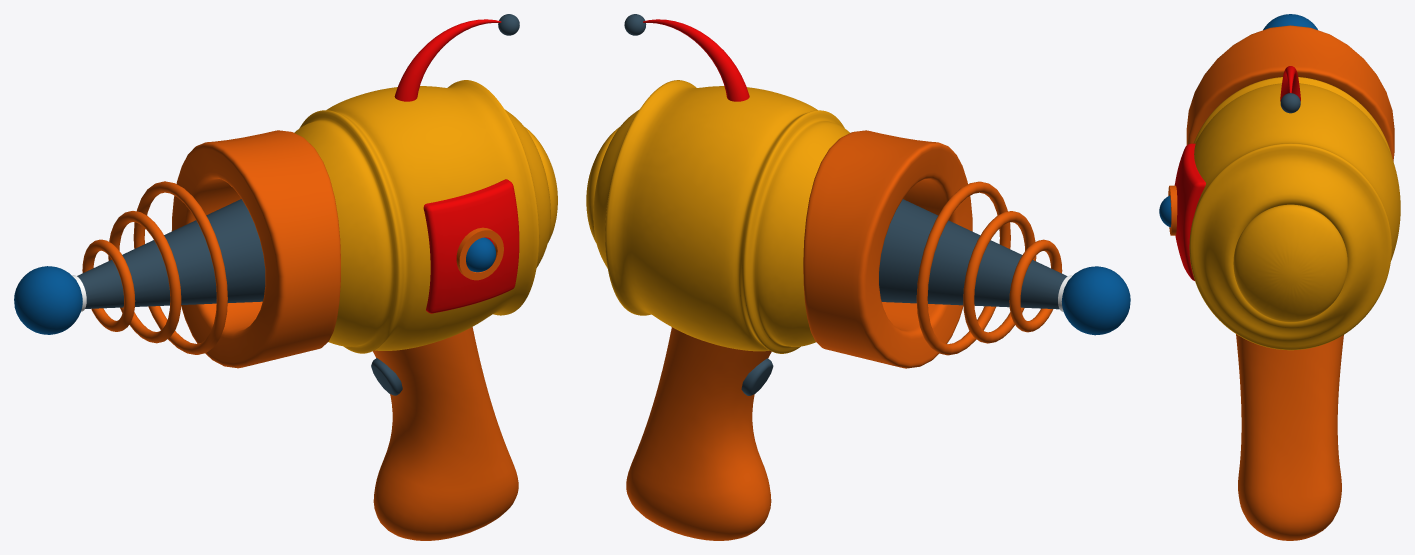
Rendered from space_gun.glb.
3 views of the same model, side by side, from view 1: azimuth 30°, elevation 25°; view 2: azimuth 150°, elevation 25°; view 3: azimuth 270°, elevation 25° (orthographic). The views are drawn at different scales.
Visible parts, largest first — view 1: Sphere002_07 - Default_0, Tube002_03 - Default_0, Capsule001_03 - Default_0, Cone001_02 - Default_0, ChamferBox001_08 - Default_0, Sphere001_01 - Default_0, Torus003_03 - Default_0, Torus002_03 - Default_0, Torus001_03 - Default_0, Cone002_08 - Default_0, Tube003_03 - Default_0, Sphere003_01 - Default_0 (+1 smaller); view 2: Sphere002_07 - Default_0, Tube002_03 - Default_0, Capsule001_03 - Default_0, Cone001_02 - Default_0, Sphere001_01 - Default_0, Torus003_03 - Default_0, Torus002_03 - Default_0, Torus001_03 - Default_0, Cone002_08 - Default_0, ChamferCyl001_02 - Default_0; view 3: Sphere002_07 - Default_0, Capsule001_03 - Default_0, Tube002_03 - Default_0, ChamferBox001_08 - Default_0, Sphere001_01 - Default_0, Cone002_08 - Default_0, Tube003_03 - Default_0, Sphere004_02 - Default_0, Sphere003_01 - Default_0.
Part boxes in pixels (bbox=[...]): Sphere002_07 - Default_0: bbox=[294, 80, 557, 353]; Tube002_03 - Default_0: bbox=[171, 130, 340, 368]; Capsule001_03 - Default_0: bbox=[373, 327, 518, 540]; Cone001_02 - Default_0: bbox=[77, 199, 265, 308]; ChamferBox001_08 - Default_0: bbox=[423, 179, 519, 313]; Sphere001_01 - Default_0: bbox=[14, 266, 82, 334]; Torus003_03 - Default_0: bbox=[133, 181, 227, 354]; Torus002_03 - Default_0: bbox=[108, 211, 181, 343]; Torus001_03 - Default_0: bbox=[82, 239, 135, 331]; Cone002_08 - Default_0: bbox=[394, 19, 501, 101]; Tube003_03 - Default_0: bbox=[456, 227, 503, 280]; Sphere003_01 - Default_0: bbox=[466, 237, 495, 272]; Sphere002_07 - Default_0: bbox=[586, 80, 849, 353]; Tube002_03 - Default_0: bbox=[803, 130, 972, 368]; Capsule001_03 - Default_0: bbox=[626, 327, 771, 540]; Cone001_02 - Default_0: bbox=[879, 199, 1067, 309]; Sphere001_01 - Default_0: bbox=[1061, 266, 1130, 335]; Torus003_03 - Default_0: bbox=[916, 181, 1010, 355]; Torus002_03 - Default_0: bbox=[963, 211, 1036, 343]; Torus001_03 - Default_0: bbox=[1009, 239, 1062, 332]; Cone002_08 - Default_0: bbox=[643, 19, 749, 101]; ChamferCyl001_02 - Default_0: bbox=[741, 358, 773, 395]; Sphere002_07 - Default_0: bbox=[1189, 77, 1400, 350]; Capsule001_03 - Default_0: bbox=[1236, 334, 1343, 540]; Tube002_03 - Default_0: bbox=[1186, 25, 1394, 161]; ChamferBox001_08 - Default_0: bbox=[1174, 143, 1205, 280]; Sphere001_01 - Default_0: bbox=[1263, 14, 1317, 30]; Cone002_08 - Default_0: bbox=[1280, 66, 1300, 101]; Tube003_03 - Default_0: bbox=[1168, 185, 1177, 235]; Sphere004_02 - Default_0: bbox=[1280, 93, 1300, 113]; Sphere003_01 - Default_0: bbox=[1159, 195, 1171, 227].
Bounding box in the file's own units: 0.3772 × 0.3431 × 0.1602.
Materials: 1 (1 with a texture image).
